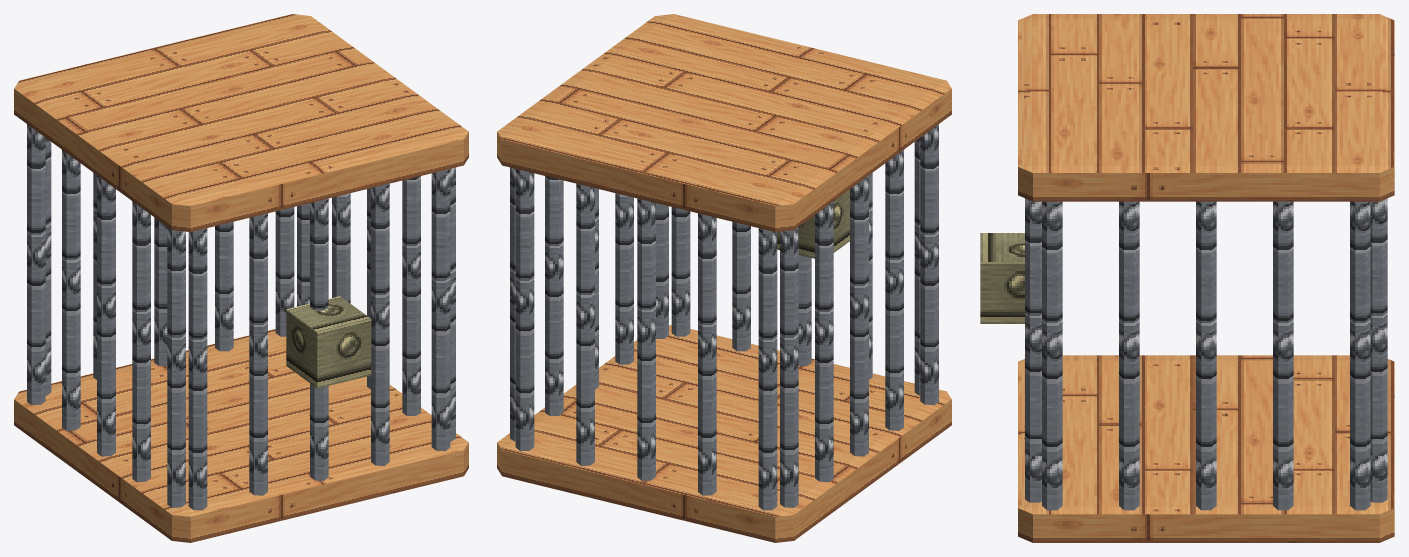
The model's file is cage.glb.
3 renders of one model, left to right at view 1: azimuth 30°, elevation 25°; view 2: azimuth 150°, elevation 25°; view 3: azimuth 270°, elevation 25°, orthographic. The views are drawn at different scales.
Parts seen in each view (by area): view 1: Frame.001, Frame, Lock, Bar, Bar.004, Bar.001, Bar.003, Bar.010, Bar.012, Bar.011, Bar.013, Bar.014 (+11 smaller); view 2: Frame.001, Frame, Bar.005, Bar.009, Bar.007, Bar.006, Bar.008, Bar.014, Bar.012, Bar.013, Bar.011, Bar.010 (+11 smaller); view 3: Frame.001, Frame, Bar.015, Bar.016, Bar.017, Bar.018, Bar.019, Bar.009, Bar.004, Lock.
Part boxes in pixels (left/top/right/bottom): Frame.001: left=14, top=14, right=468, bottom=231; Frame: left=14, top=329, right=468, bottom=542; Lock: left=286, top=296, right=371, bottom=388; Bar: left=188, top=228, right=207, bottom=510; Bar.004: left=431, top=169, right=450, bottom=451; Bar.001: left=249, top=213, right=267, bottom=495; Bar.003: left=371, top=183, right=389, bottom=465; Bar.010: left=167, top=227, right=185, bottom=507; Bar.012: left=97, top=175, right=115, bottom=456; Bar.011: left=132, top=201, right=150, bottom=482; Bar.013: left=62, top=150, right=80, bottom=430; Bar.014: left=27, top=124, right=45, bottom=405; Frame.001: left=497, top=14, right=951, bottom=231; Frame: left=497, top=325, right=951, bottom=542; Bar.005: left=758, top=228, right=777, bottom=510; Bar.009: left=515, top=169, right=534, bottom=451; Bar.007: left=637, top=198, right=655, bottom=480; Bar.006: left=698, top=213, right=716, bottom=495; Bar.008: left=576, top=183, right=594, bottom=465; Bar.014: left=780, top=227, right=798, bottom=507; Bar.012: left=850, top=175, right=868, bottom=456; Bar.013: left=815, top=201, right=833, bottom=482; Bar.011: left=885, top=150, right=903, bottom=430; Bar.010: left=920, top=124, right=938, bottom=405; Frame.001: left=1018, top=14, right=1394, bottom=201; Frame: left=1018, top=355, right=1394, bottom=542; Bar.015: left=1042, top=201, right=1062, bottom=510; Bar.016: left=1119, top=201, right=1139, bottom=510; Bar.017: left=1196, top=201, right=1216, bottom=510; Bar.018: left=1273, top=201, right=1293, bottom=510; Bar.019: left=1350, top=201, right=1370, bottom=510; Bar.009: left=1370, top=198, right=1387, bottom=502; Bar.004: left=1025, top=198, right=1041, bottom=502; Lock: left=980, top=233, right=1024, bottom=323.
Size of the model in its own units: 2.2 by 2.4 by 2.42.
Materials: 3 (3 with a texture image).
